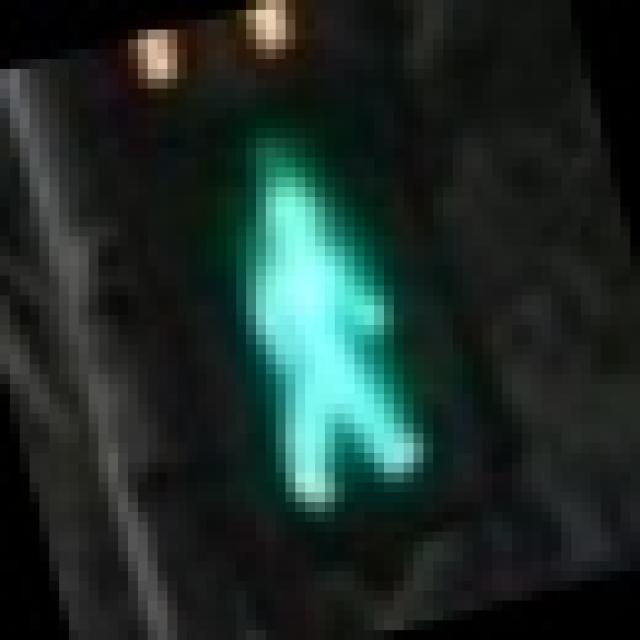geen-crossing: (128, 69, 482, 542)
